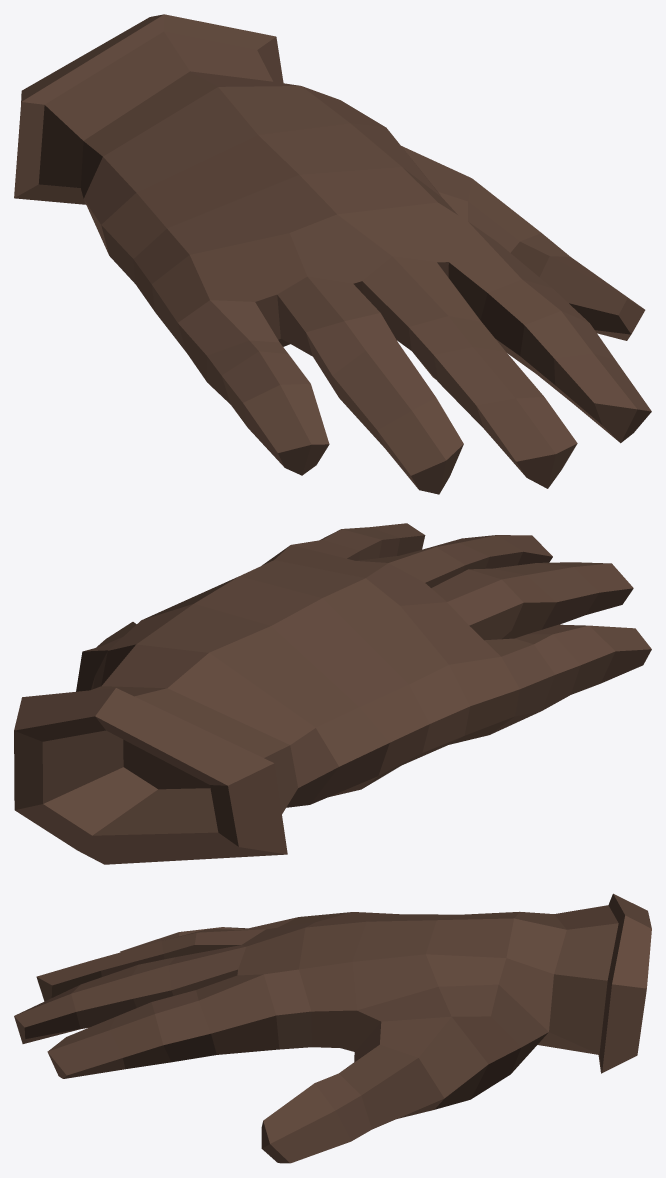
The model's file is Glove.glb.
The picture shows the model from 3 angles, top to bottom: view 1: azimuth 30°, elevation 25°; view 2: azimuth 150°, elevation 25°; view 3: azimuth 270°, elevation 25°; orthographic projection. The views are drawn at different scales.
Visible parts, largest first — view 1: Glove__ncl1_29.000; view 2: Glove__ncl1_29.000; view 3: Glove__ncl1_29.000.
Part boxes in pixels (x1,y1,x2,y2): Glove__ncl1_29.000: (14, 14, 651, 494); Glove__ncl1_29.000: (14, 523, 651, 864); Glove__ncl1_29.000: (14, 893, 651, 1163).
Size of the model in its own units: 0.5983 by 0.2681 by 0.9558.
